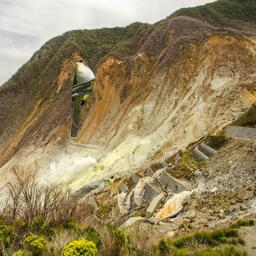Cuckoo: (69, 58, 96, 137)
